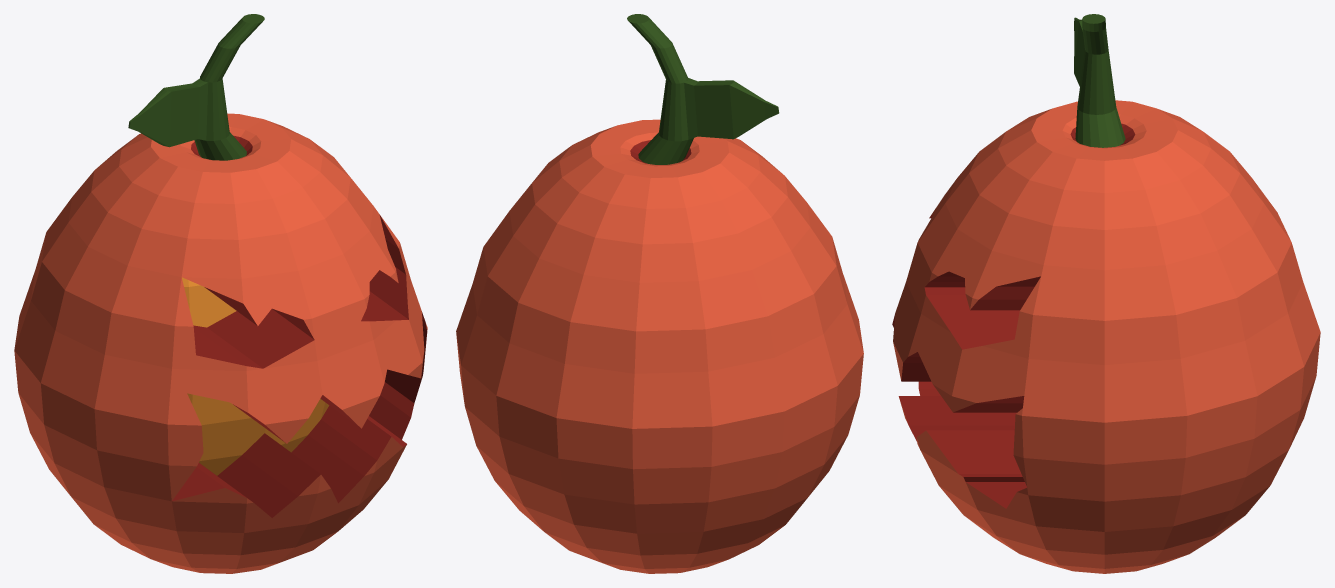
File: abobora1.fbx
3 views of the same model, side by side, from view 1: azimuth 30°, elevation 25°; view 2: azimuth 150°, elevation 25°; view 3: azimuth 270°, elevation 25° (orthographic). The views are drawn at different scales.
Parts seen in each view (by area): view 1: Sphere.001; view 2: Sphere.001; view 3: Sphere.001.
Part boxes in pixels (x1,y1,x2,y2): Sphere.001: (14,14,427,573); Sphere.001: (456,14,863,573); Sphere.001: (892,14,1320,573).
Bounding box in the file's own units: 481 × 682 × 481.
